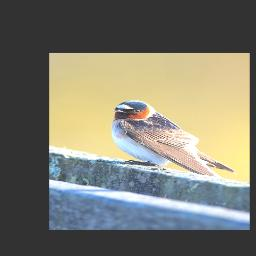Swallow: (110, 100, 237, 181)
